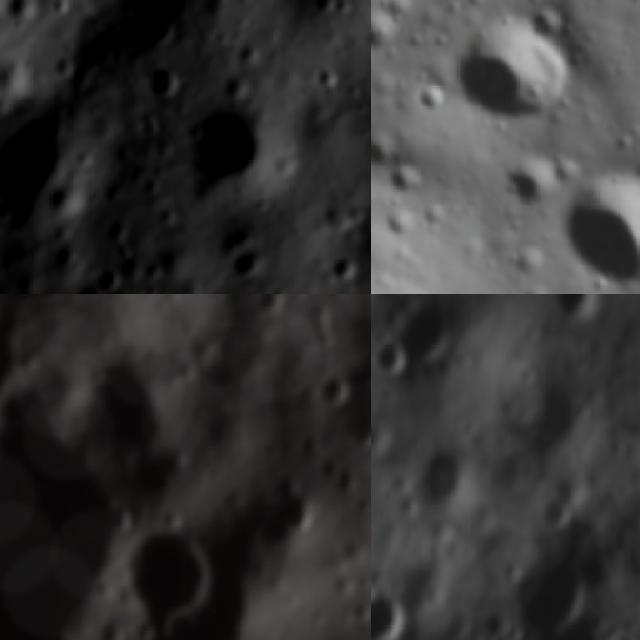crater: (442, 0, 588, 128), (76, 344, 184, 461), (170, 96, 284, 206), (552, 151, 640, 290), (113, 521, 213, 623), (518, 562, 592, 618), (260, 479, 314, 552), (407, 456, 479, 504), (0, 312, 23, 449), (499, 156, 554, 203), (371, 1, 418, 54), (314, 455, 366, 495), (141, 58, 188, 102), (347, 369, 371, 454), (222, 245, 267, 286), (0, 47, 34, 100), (371, 587, 405, 640), (46, 178, 90, 218), (528, 489, 568, 529), (321, 370, 359, 411), (382, 158, 424, 193), (239, 294, 290, 322), (326, 251, 364, 288), (88, 260, 126, 294), (373, 336, 402, 379), (554, 294, 600, 320), (5, 0, 42, 31), (412, 77, 441, 112), (605, 629, 631, 640)
